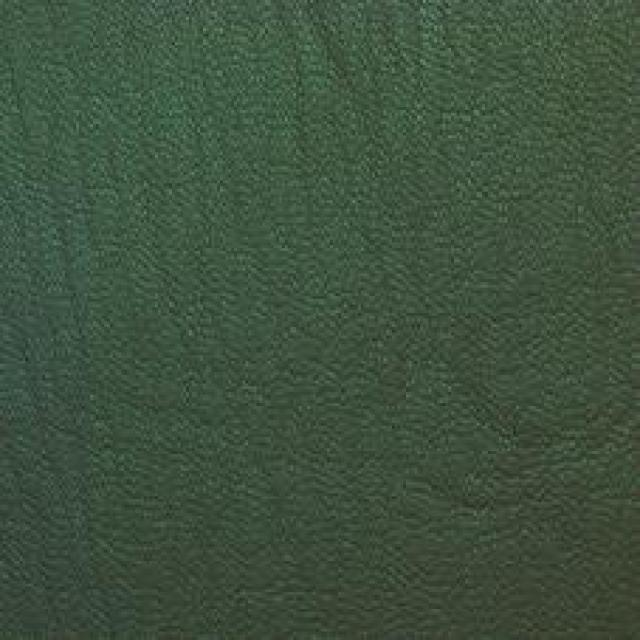Growth Marks: (24, 323, 160, 592), (292, 19, 402, 180)
